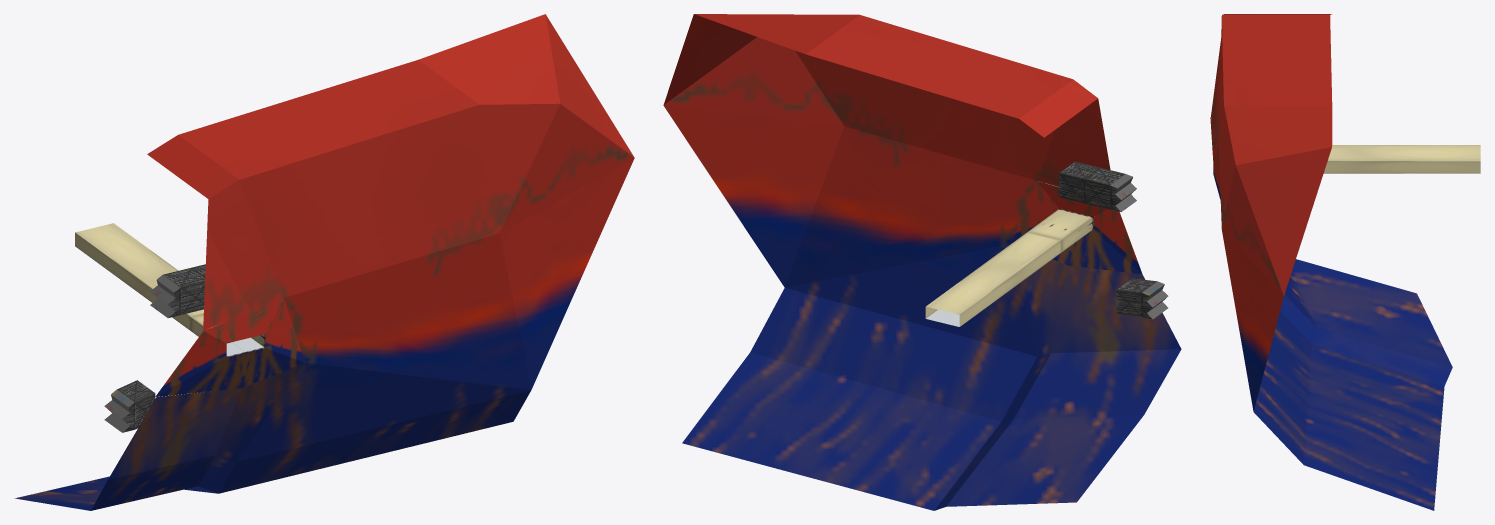
The model's file is Nave destruida.fbx.
3 renders of one model, left to right at view 1: azimuth 30°, elevation 25°; view 2: azimuth 150°, elevation 25°; view 3: azimuth 270°, elevation 25°, orthographic. The views are drawn at different scales.
Visible parts, largest first — view 1: Cube, Plane, Cube.001, Cube.002; view 2: Cube, Plane, Cube.001, Cube.002; view 3: Cube, Plane.
Part boxes in pixels (<box>): Cube: <box>14,14,634,510</box>; Plane: <box>75,223,304,396</box>; Cube.001: <box>150,264,205,317</box>; Cube.002: <box>104,380,155,432</box>; Cube: <box>663,14,1181,510</box>; Plane: <box>925,181,1142,326</box>; Cube.001: <box>1059,161,1136,212</box>; Cube.002: <box>1116,278,1168,319</box>; Cube: <box>1211,14,1452,510</box>; Plane: <box>1210,117,1480,199</box>.
Bounding box in the file's own units: 29292 × 21865 × 13944.
